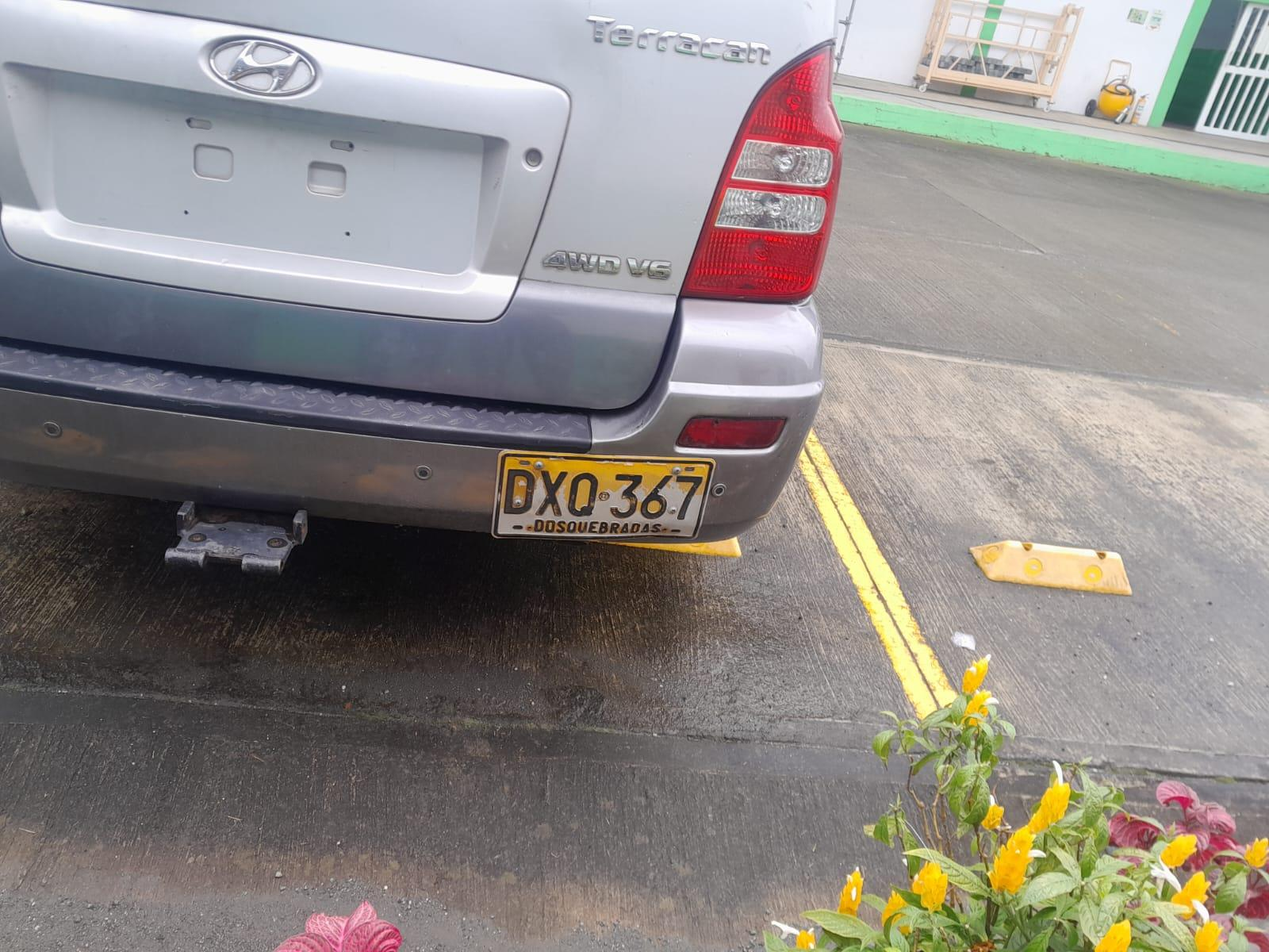placa: (493, 451, 713, 539)
